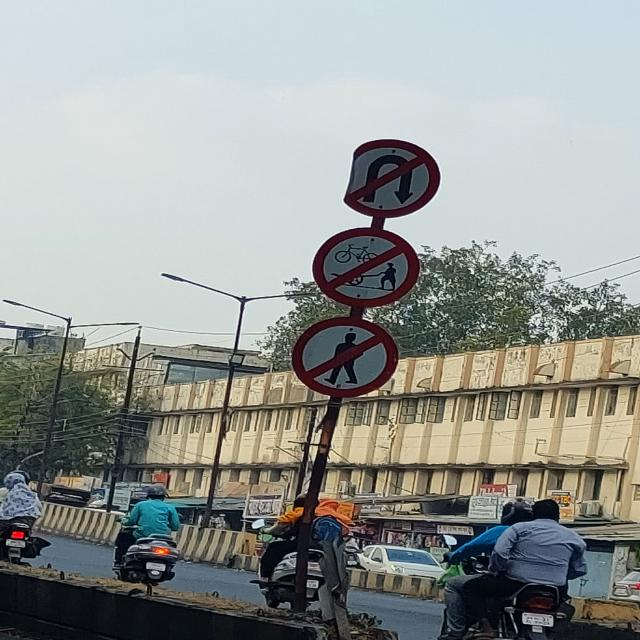CYCLE_PROHIBITED: (309, 225, 422, 308)
